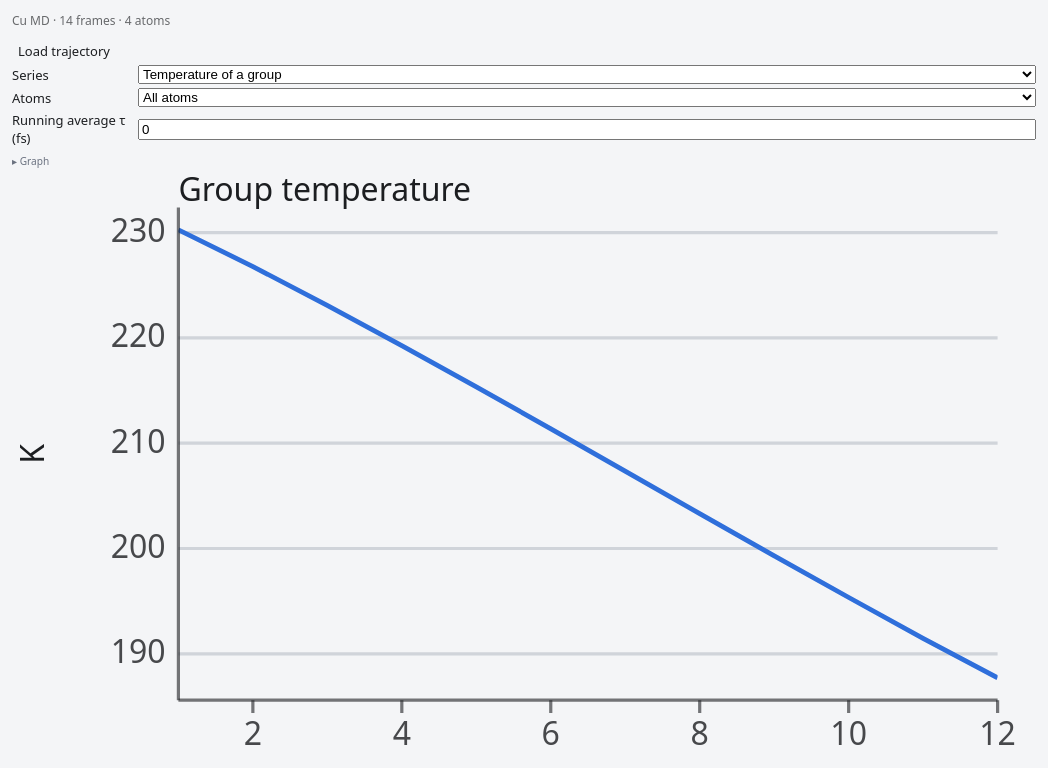
Test: removes a term
The image size is (1048, 768).
Select "Internal coordinate / mode" in the dropdown labelled "Series" at (587, 74), box [138,65,1036,84]
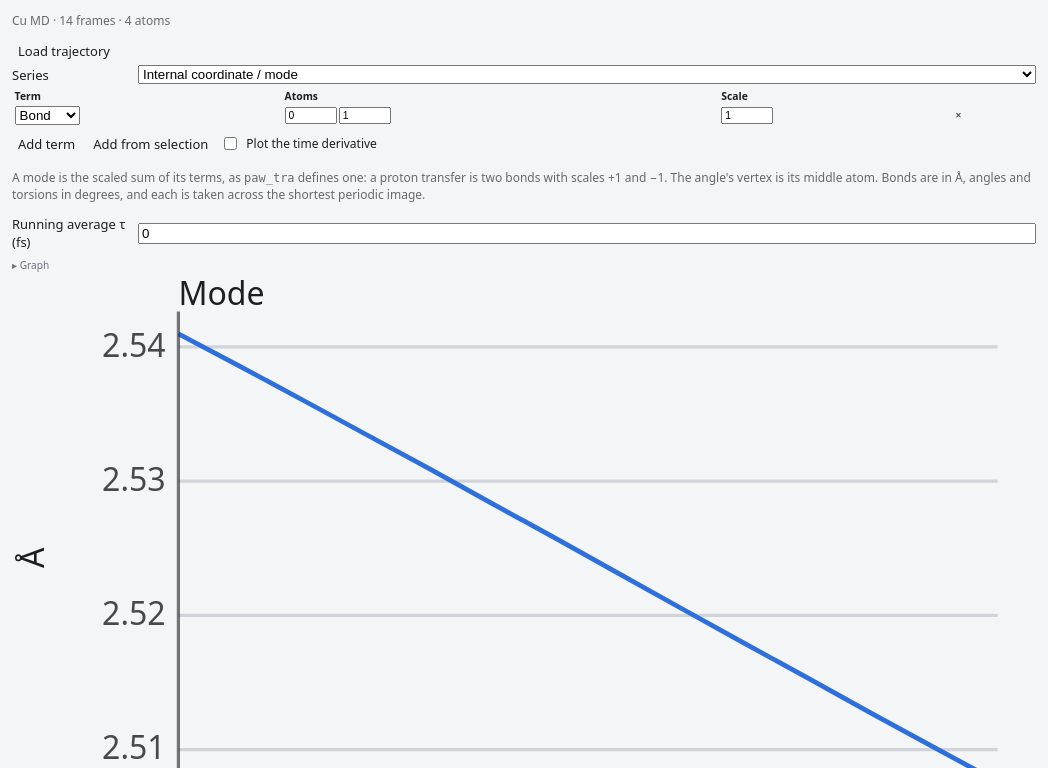
Click the button named "Remove term 1" at (959, 115), box [950,107,968,123]
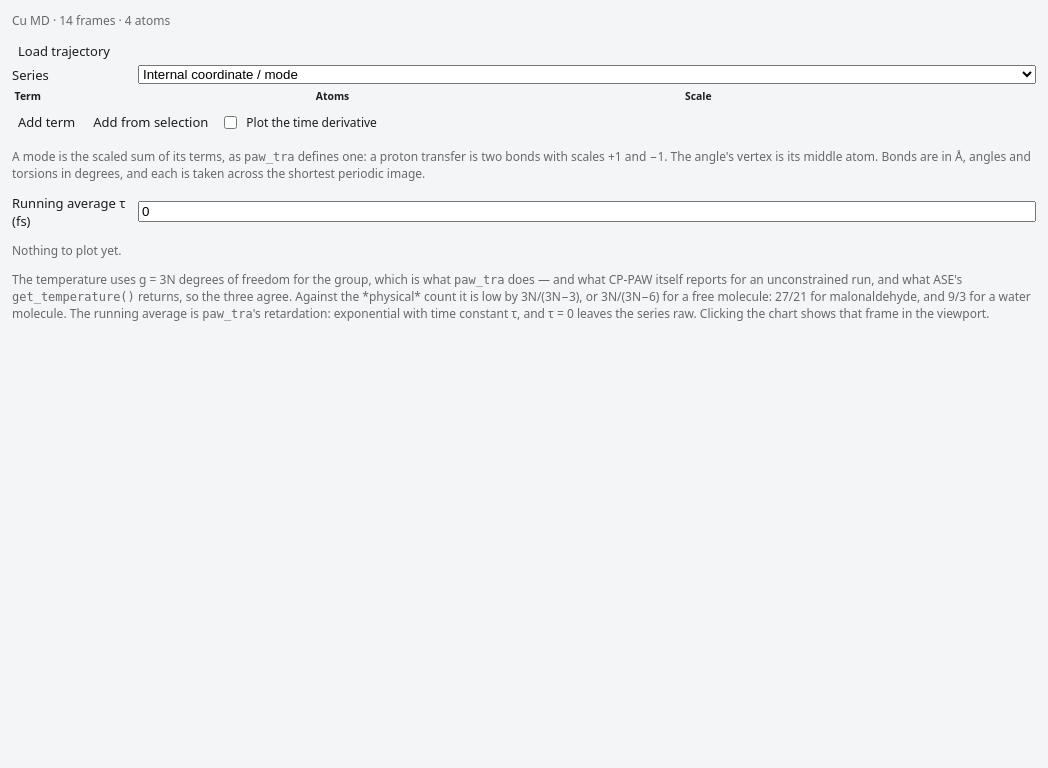
Expected: the text "Nothing to plot yet." is shown, [12,242,122,259]
